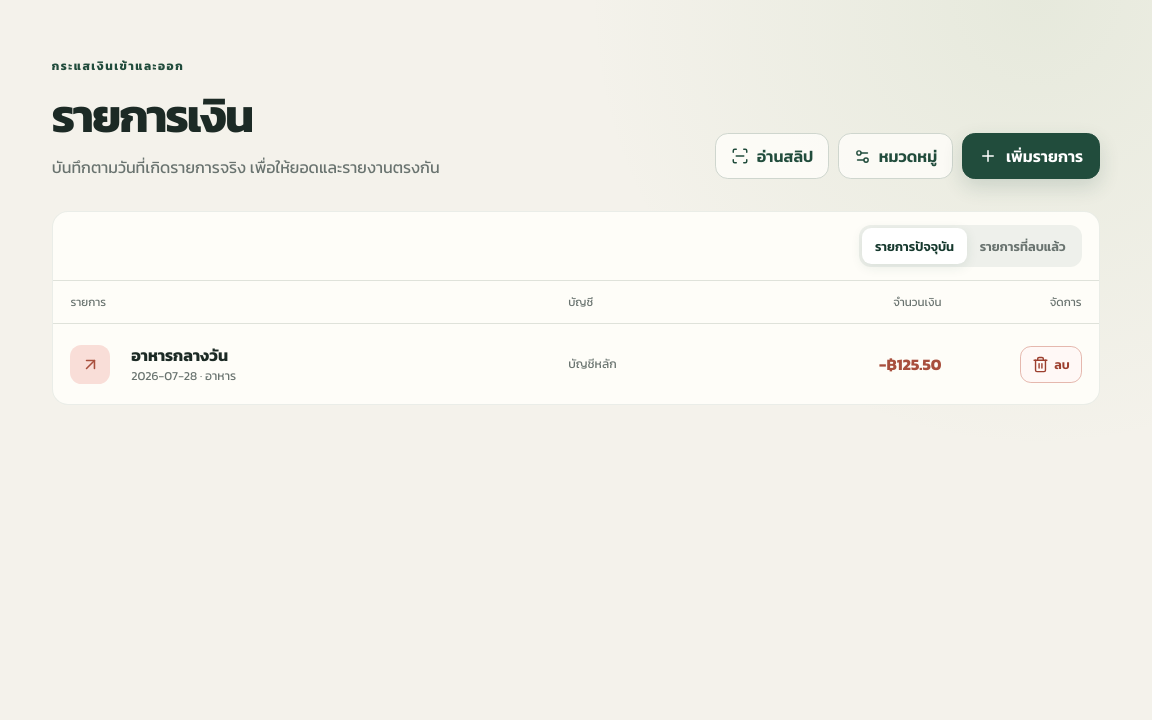
Test case: TransactionsPage › keeps the confirmation open when voiding fails
Click the button with aria-label "ลบรายการ อาหารกลางวัน". click: click(1051, 364)
box: left=1020, top=346, right=1082, bottom=383
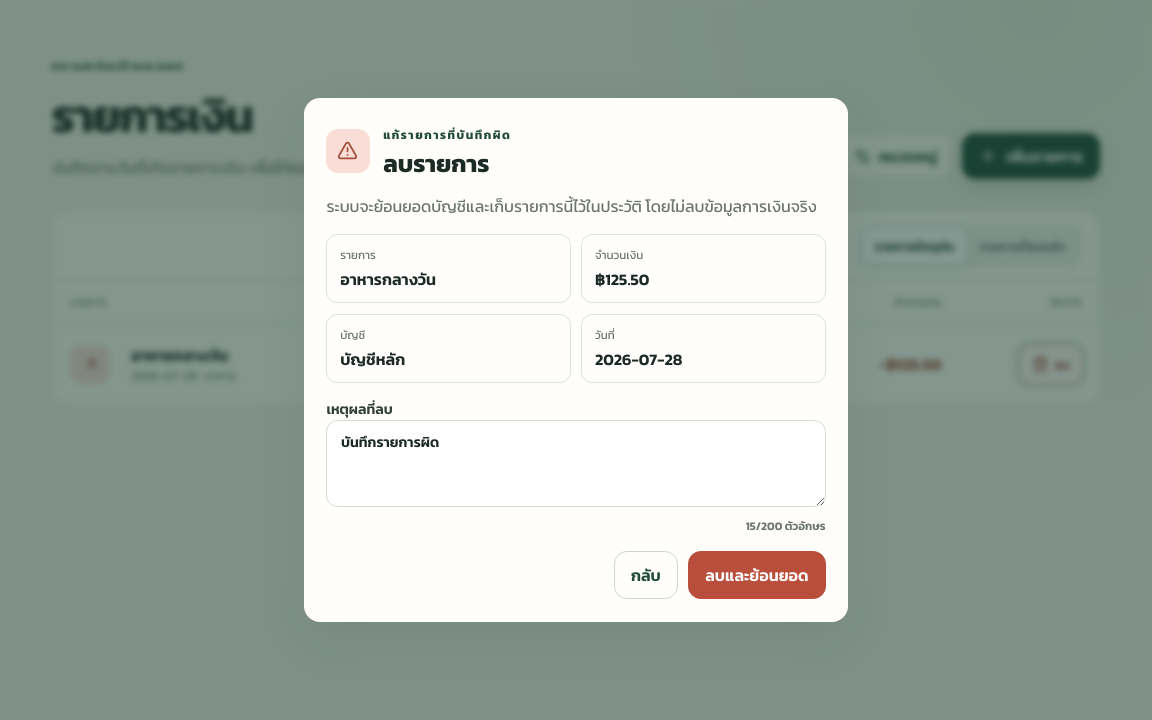
Click the button "ลบและย้อนยอด". click: click(757, 575)
box: left=688, top=551, right=826, bottom=599
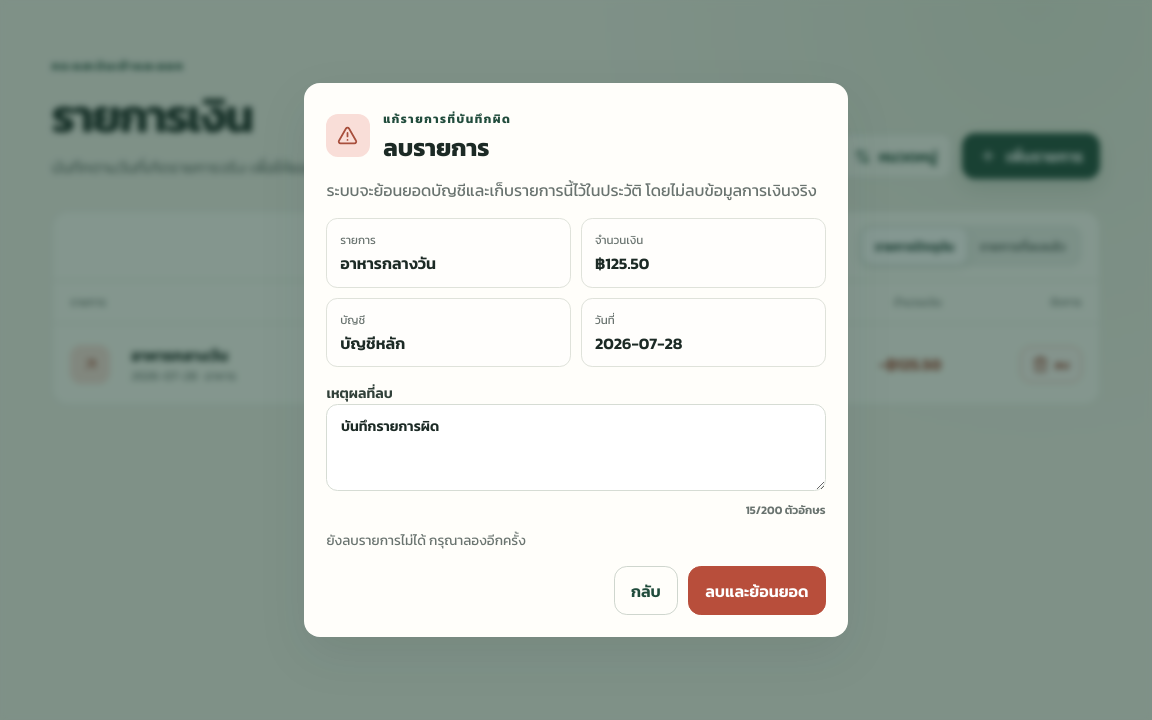
expect the dialog is shown: met
expect the message reads "ยังลบรายการไม่ได้ กรุณาลองอีกครั้ง": met, box left=326, top=530, right=526, bottom=550
